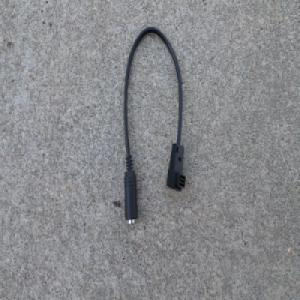Wire: (121, 25, 187, 227)
